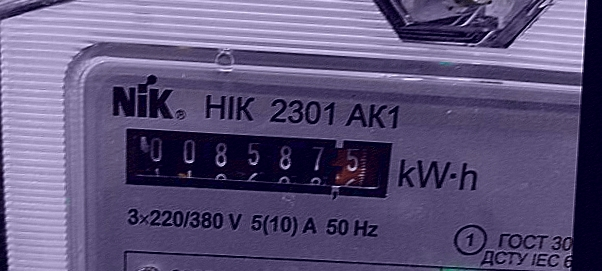0: (145, 132, 164, 162), (179, 135, 198, 164)
5: (343, 144, 362, 174), (243, 138, 262, 167)
7: (307, 141, 326, 172)
8: (275, 140, 294, 171), (211, 138, 229, 167)
screen: (104, 110, 410, 211)
